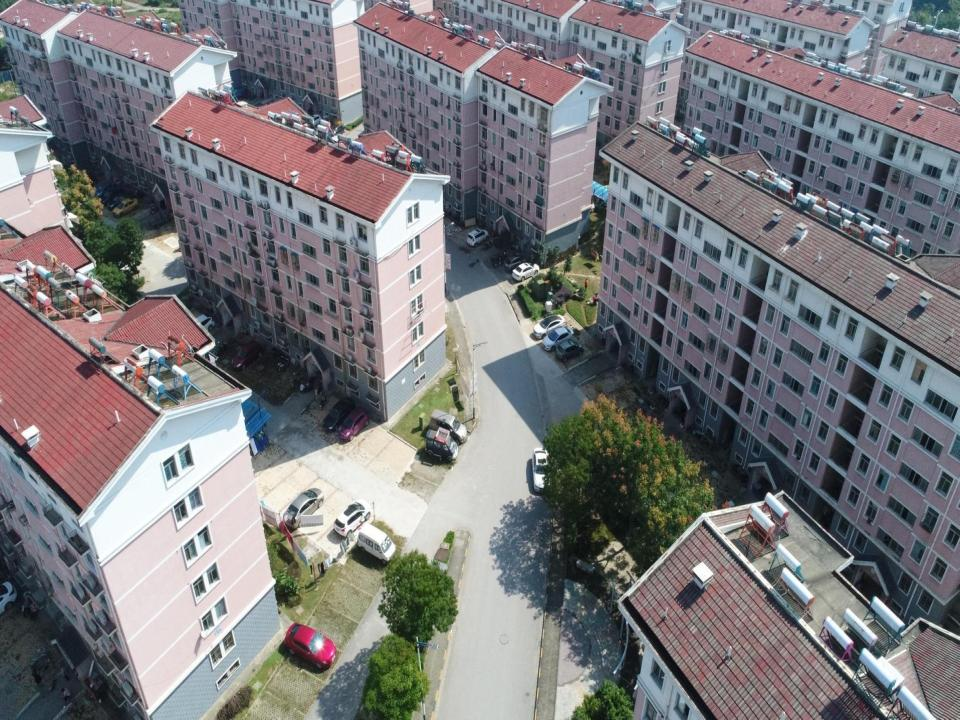car: (284, 622, 337, 670), (283, 486, 324, 530), (332, 499, 370, 536), (323, 396, 354, 432), (339, 408, 369, 443), (232, 339, 263, 370), (532, 447, 550, 495), (543, 325, 574, 351), (533, 313, 564, 339), (556, 339, 584, 362), (512, 259, 540, 281), (0, 581, 17, 613), (112, 199, 140, 218), (504, 253, 530, 271), (466, 228, 489, 248), (100, 189, 124, 205), (107, 194, 130, 209), (195, 315, 215, 332), (95, 182, 117, 197), (330, 124, 347, 135), (310, 114, 322, 127)
van: (357, 521, 395, 566), (426, 409, 467, 441), (424, 429, 459, 463)
